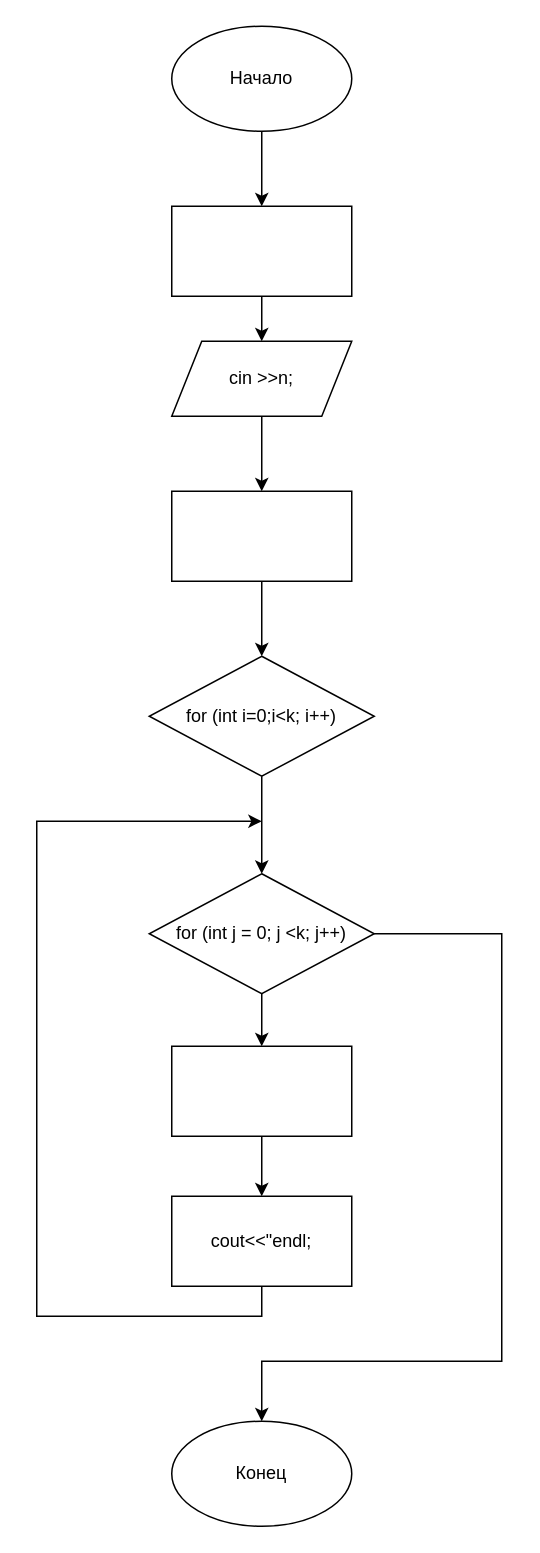
The diagram is 540 pixels wide and 1553 high, and some of its shapes have lost their labels. The centre of each missing label's shape, as x and y in pixels:
cout<<" * ";: point 261,1090
int n,k;: point 261,250
k=sqrt(n);: point 261,535
